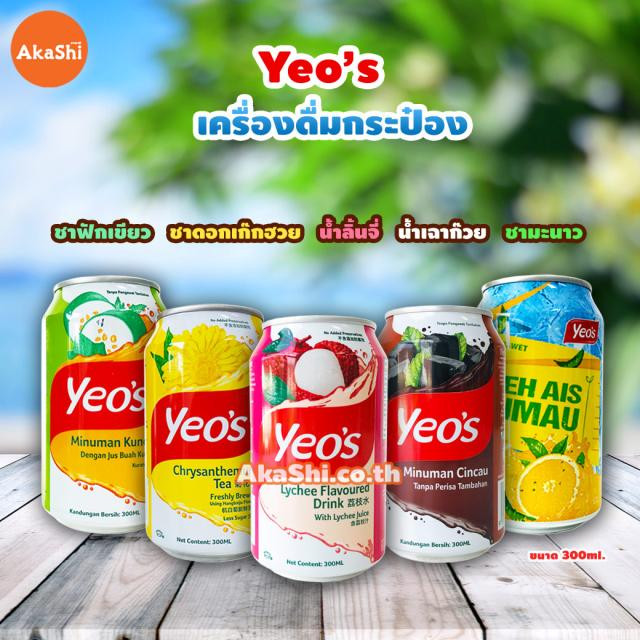can: (251, 314, 387, 581), (40, 274, 170, 538), (377, 305, 507, 566), (144, 302, 270, 564), (481, 277, 606, 533)
